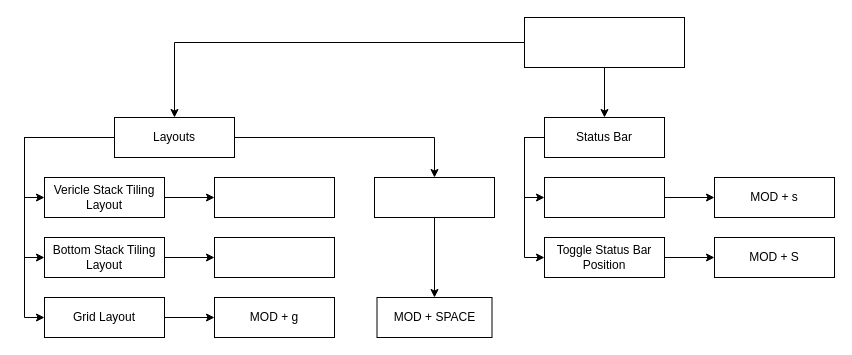
This 852x355 diagram has some shape labels left out. The centre of each missing label's shape, as x and y in pixels:
"DVTM" belongs at (x=604, y=42).
"MOD + b" belongs at (x=274, y=257).
"MOD + f" belongs at (x=274, y=197).
"Toggle B/W d/f layouts." belongs at (x=434, y=197).
"Toggle Status Bar Visiblity" belongs at (x=604, y=197).
